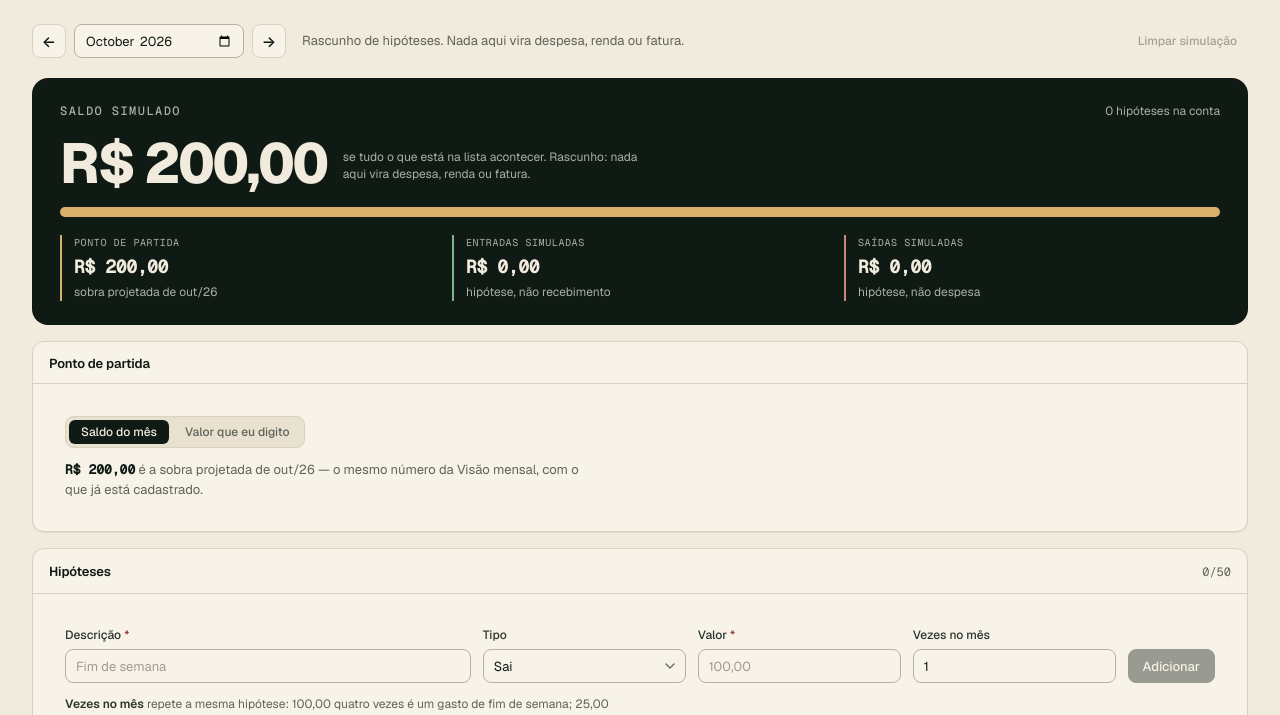
Scenario: SimulacaoPage › uma entrada levanta o saldo simulado
Check: the heading "Hipóteses" is shown, box [49, 564, 111, 580]
In the field named "Descrição*": (268, 666) [65, 649, 471, 683], type "Freela"
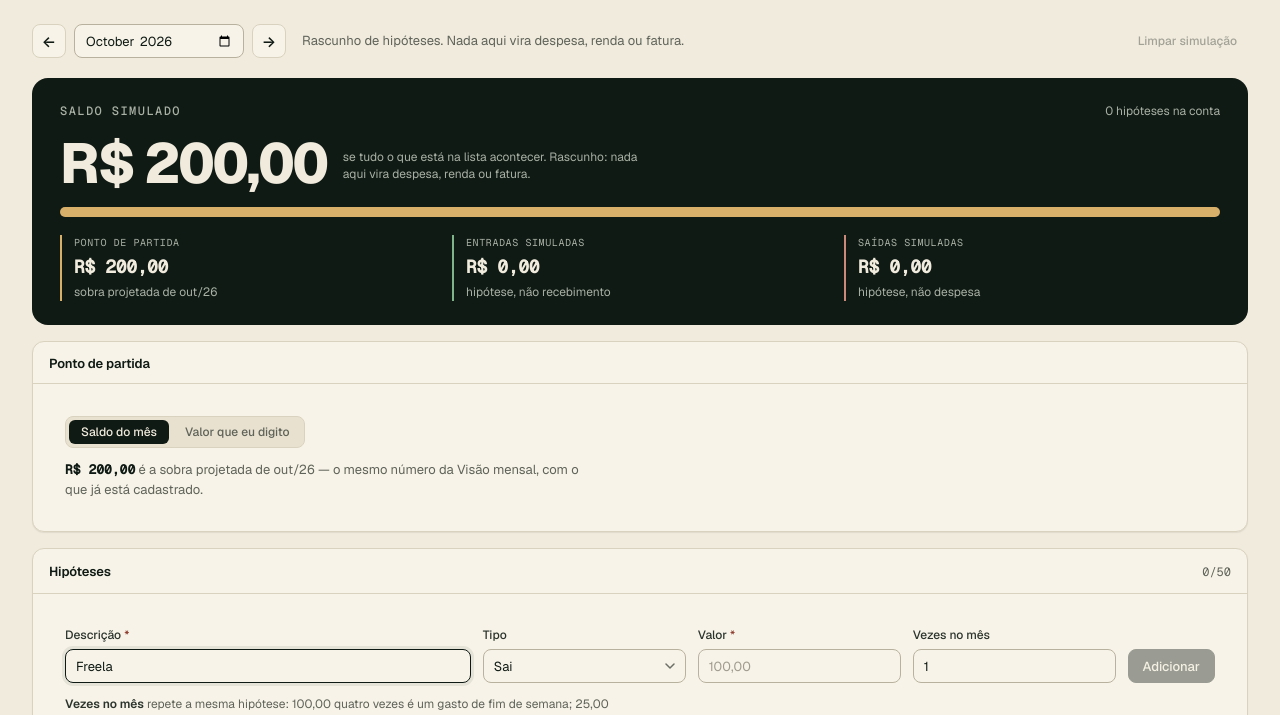
In the field named "Valor*": (799, 666) [698, 649, 901, 683], type "80,00"
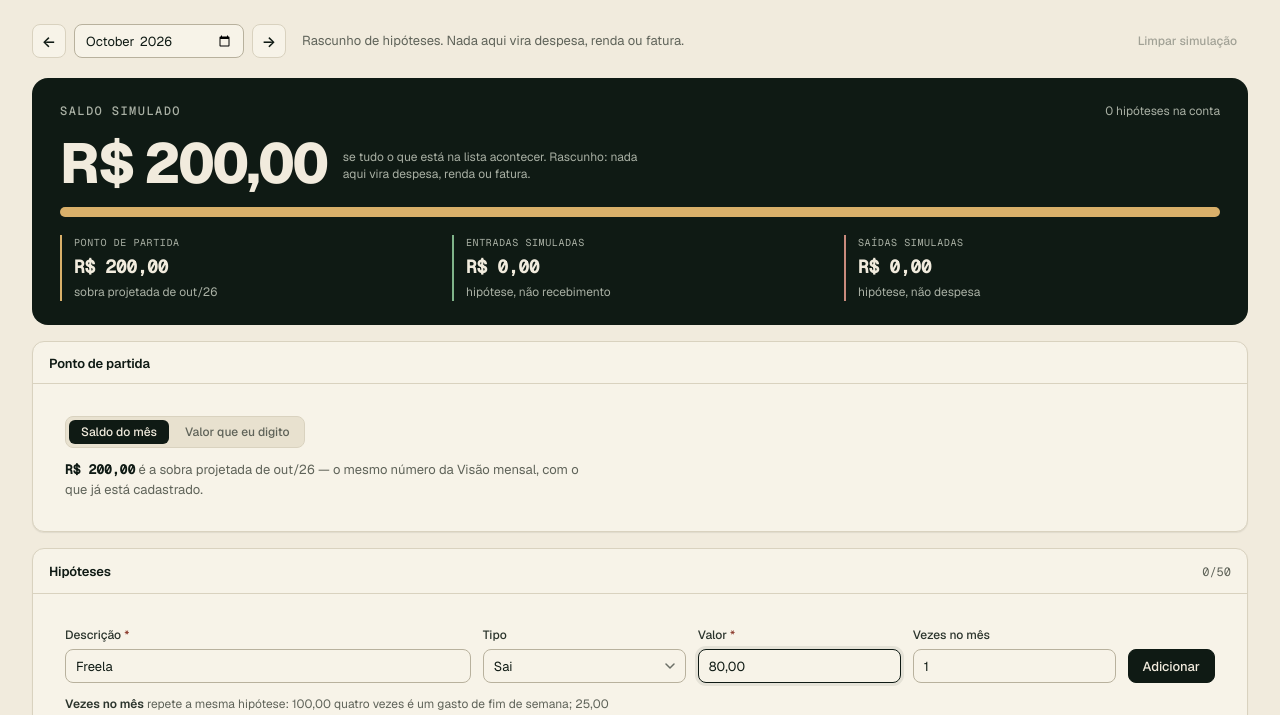
Select "Entra" in the dropdown labelled "Tipo": (584, 666) [483, 649, 686, 683]
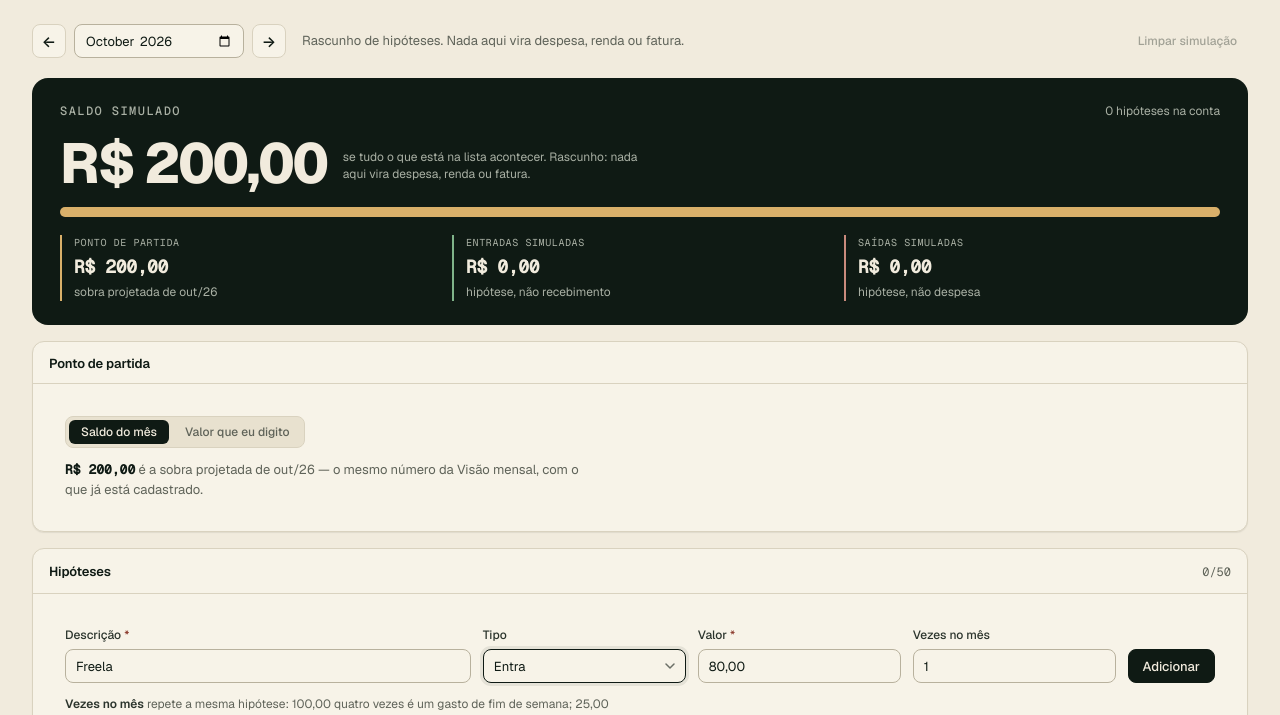
Click the button "Adicionar": (1171, 666) [1128, 649, 1215, 683]
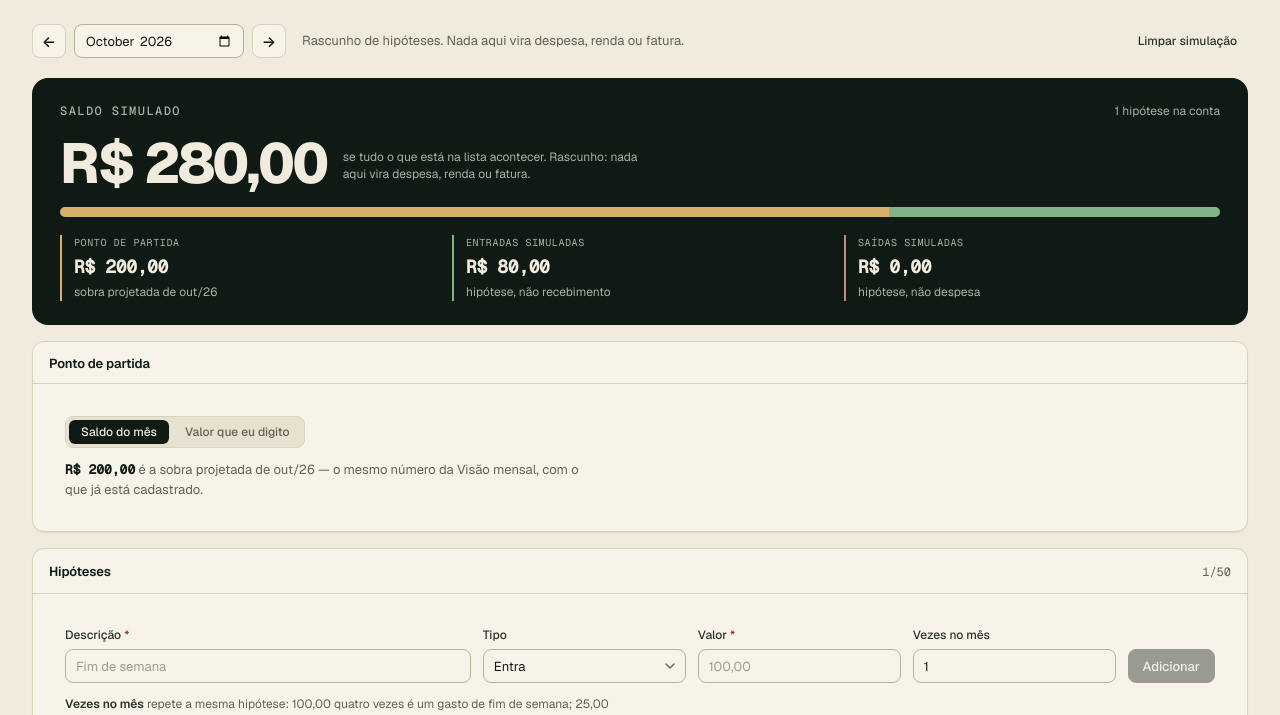
Check: the text "R$ 280,00" is shown, box [60, 138, 327, 189]
